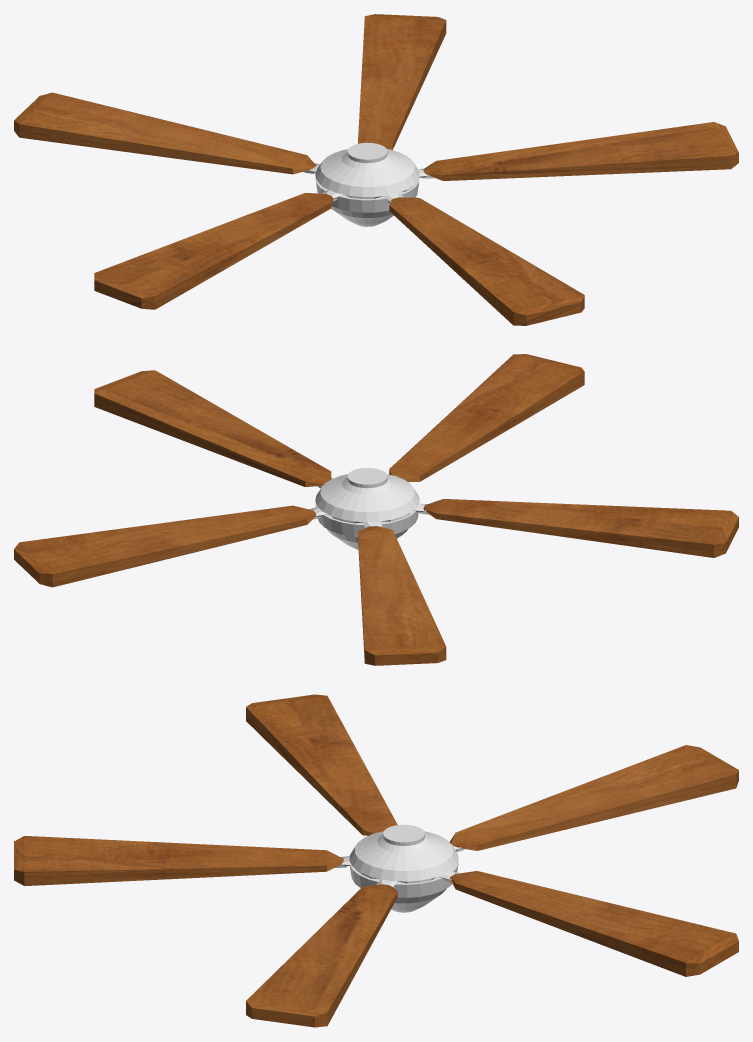
Rendered from fanLight.fbx.
The picture shows the model from 3 angles, top to bottom: view 1: azimuth 30°, elevation 25°; view 2: azimuth 150°, elevation 25°; view 3: azimuth 270°, elevation 25°; orthographic projection. The views are drawn at different scales.
Visible parts, largest first — view 1: Cylinder; view 2: Cylinder; view 3: Cylinder.
Part boxes in pixels (box(x1,y1,x2,y2)): Cylinder: box(14, 14, 738, 325); Cylinder: box(14, 354, 738, 665); Cylinder: box(14, 694, 738, 1027).
Size of the model in its own units: 1170 by 124 by 1113.
